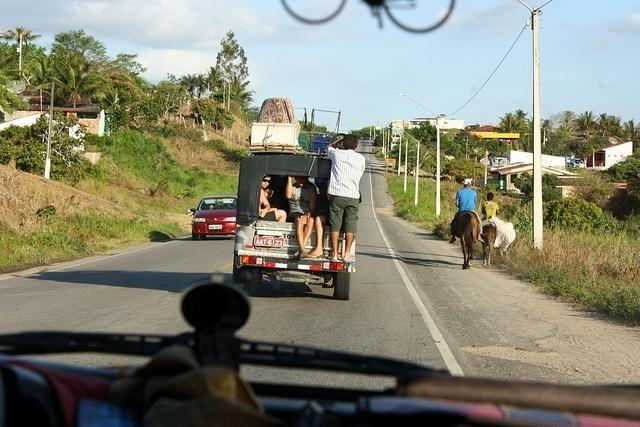car: (192, 197, 238, 239)
truck: (234, 154, 356, 299)
